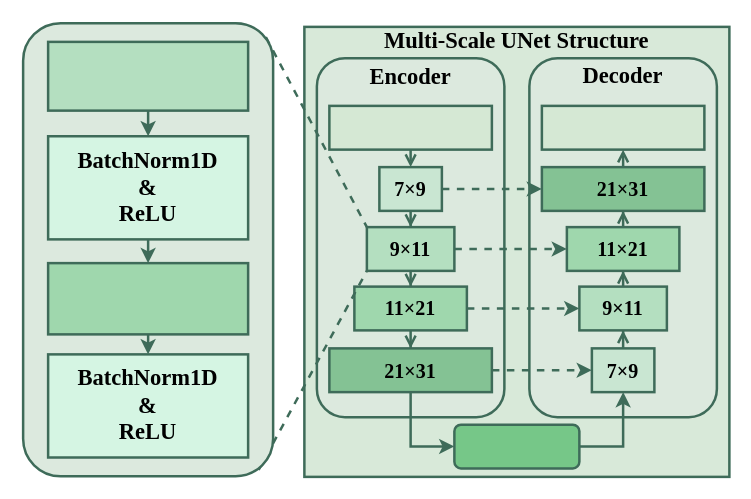
This 751x499 diagram has some shape labels left out. The centre of each missing label's shape, as x and y in pixels:
Bottleneck: [516,446]
Conv1D (kernel size = 11): [147,298]
Conv1D (kernel size = 9 ): [147,75]
Input: [410,127]
Output: [622,127]
